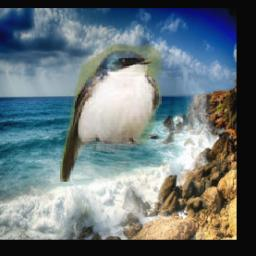Swallow: (60, 44, 162, 182)
